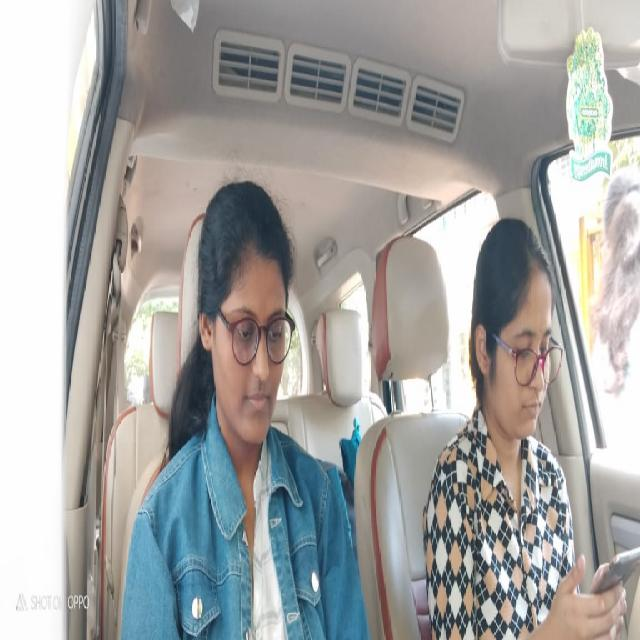mobile: (584, 525, 640, 639)
person: (185, 154, 303, 484), (470, 188, 567, 464)
